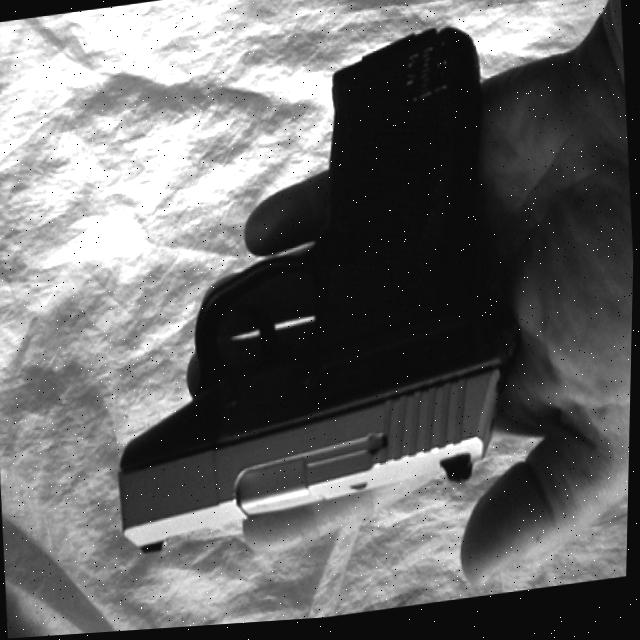pistol: (88, 15, 545, 571)
